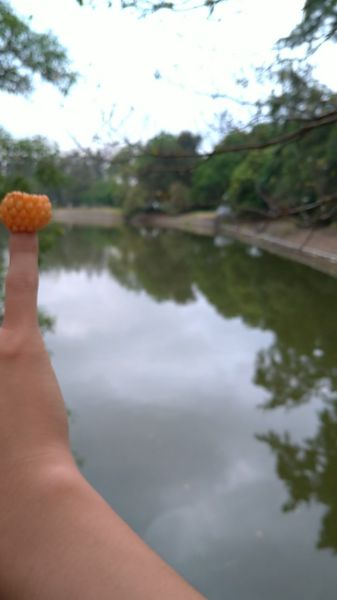eggs: (1, 187, 55, 232)
